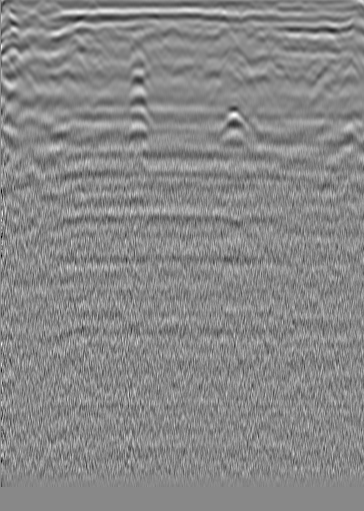가스: (214, 102, 253, 140)
상수: (315, 22, 335, 42)
오수: (21, 10, 48, 33)
우수: (161, 21, 181, 41)
